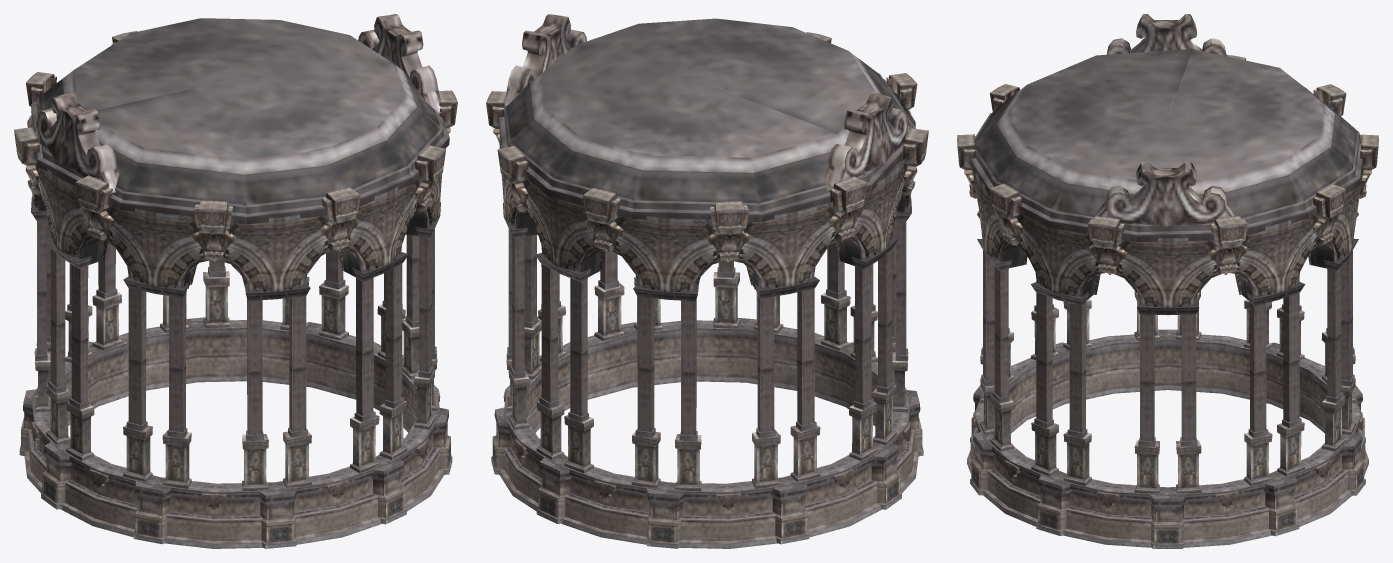
Rendered from SM_zhucheng_jianzhu01.FBX.
3 renders of one model, left to right at view 1: azimuth 30°, elevation 25°; view 2: azimuth 150°, elevation 25°; view 3: azimuth 270°, elevation 25°, orthographic. The views are drawn at different scales.
Parts seen in each view (by area): view 1: SM_zhucheng_jianzhu01; view 2: SM_zhucheng_jianzhu01; view 3: SM_zhucheng_jianzhu01.
Boxes of the visible parts, x1,y1,x2,y2 form: SM_zhucheng_jianzhu01: (14, 14, 457, 548); SM_zhucheng_jianzhu01: (486, 14, 928, 548); SM_zhucheng_jianzhu01: (957, 14, 1378, 548).
Bounding box in the file's own units: 542 × 544 × 559.
